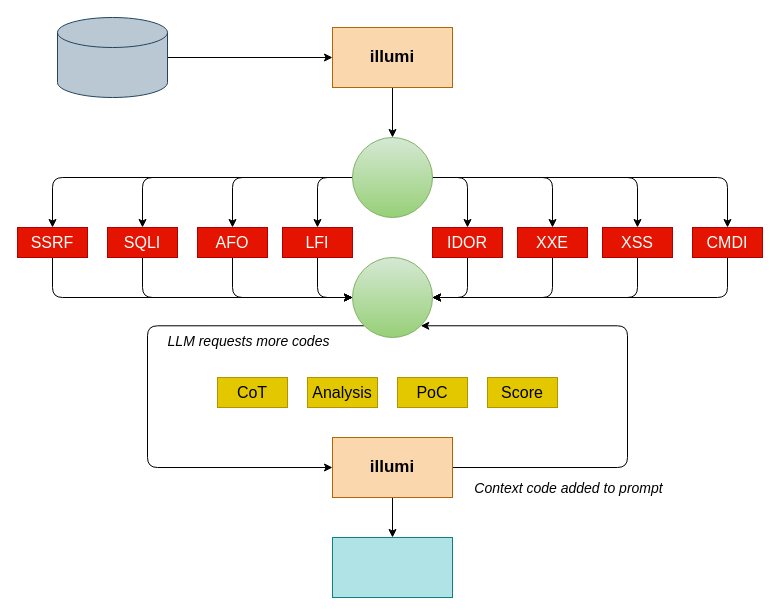
Image size: 780x615. Some labels were removed from this diagram. The shapes that lost their labels are listed below. From the top down, each one's centre as x and y in pixels, then its label:
[112,57]: Project Code
[392,177]: Initial Scan
[392,297]: Detailed Scan
[392,567]: Report
